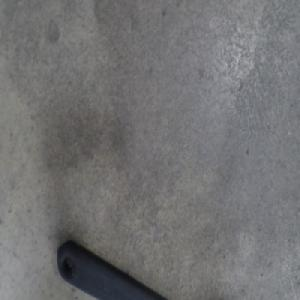AdjustableWrench: (57, 240, 168, 299)
